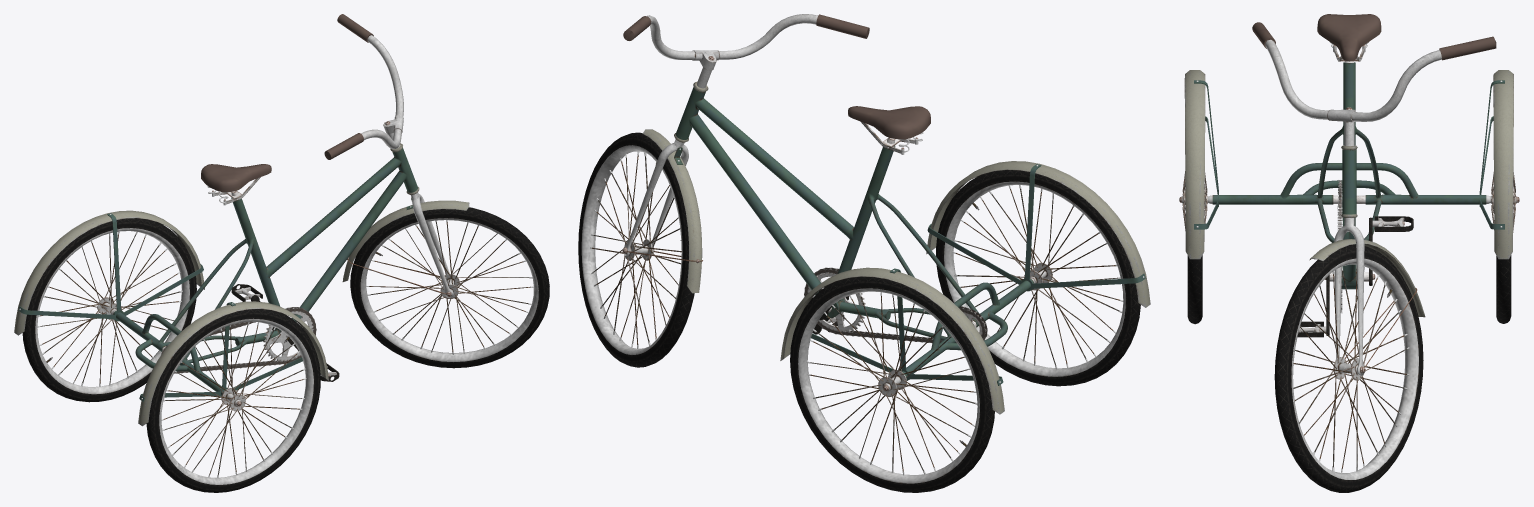
The model's file is bicycle.glb.
The picture shows the model from 3 angles, left to right: view 1: azimuth 30°, elevation 25°; view 2: azimuth 150°, elevation 25°; view 3: azimuth 270°, elevation 25°; orthographic projection. The views are drawn at different scales.
Visible parts, largest first — view 1: Bicycle; view 2: Bicycle; view 3: Bicycle.
Boxes of the visible parts, x1,y1,x2,y2 form: Bicycle: [14, 14, 549, 492]; Bicycle: [578, 14, 1150, 492]; Bicycle: [1179, 14, 1519, 492].
Bounding box in the file's own units: 161 × 115 × 85.62.
Materials: 2 (2 with a texture image).
